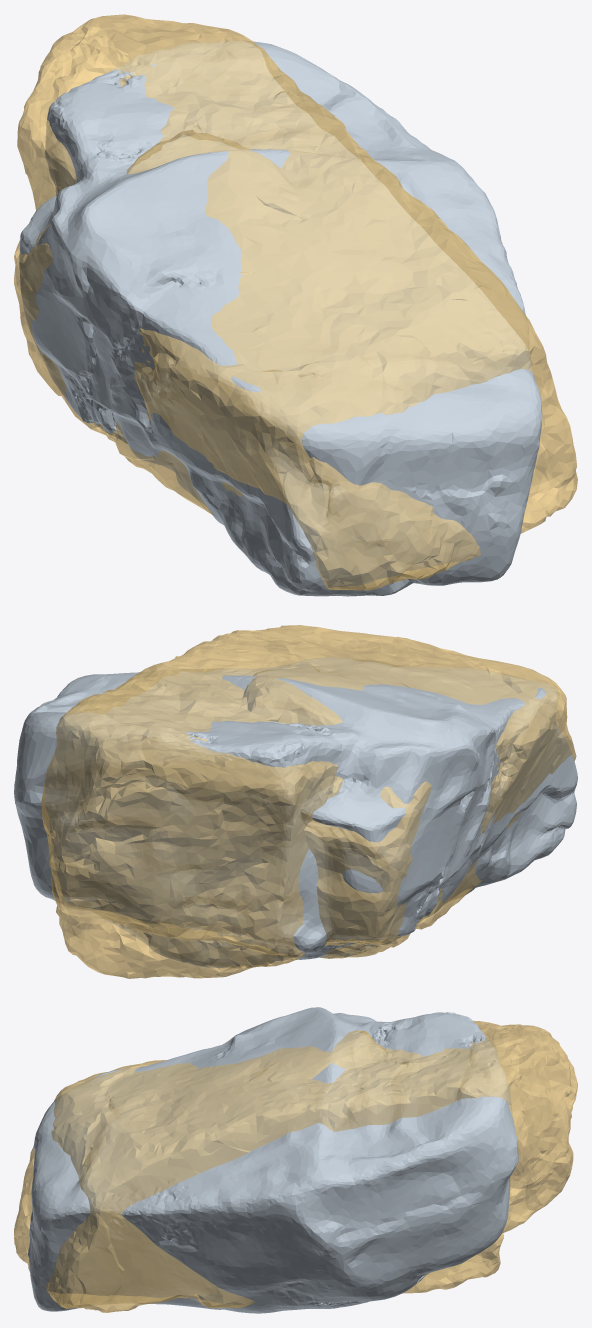
The picture shows the model from 3 angles, top to bottom: view 1: azimuth 30°, elevation 25°; view 2: azimuth 150°, elevation 25°; view 3: azimuth 270°, elevation 25°; orthographic projection. The views are drawn at different scales.
Parts seen in each view (by area): view 1: imagination, truth; view 2: imagination, truth; view 3: imagination, truth.
Part boxes in pixels (x1,y1,x2,y2): imagination: [19, 41, 542, 596]; truth: [14, 14, 577, 590]; imagination: [14, 657, 577, 967]; truth: [41, 625, 576, 978]; imagination: [28, 1007, 518, 1313]; truth: [14, 1020, 577, 1312].
Bounding box in the file's own units: 0.807 × 0.6155 × 1.25.
